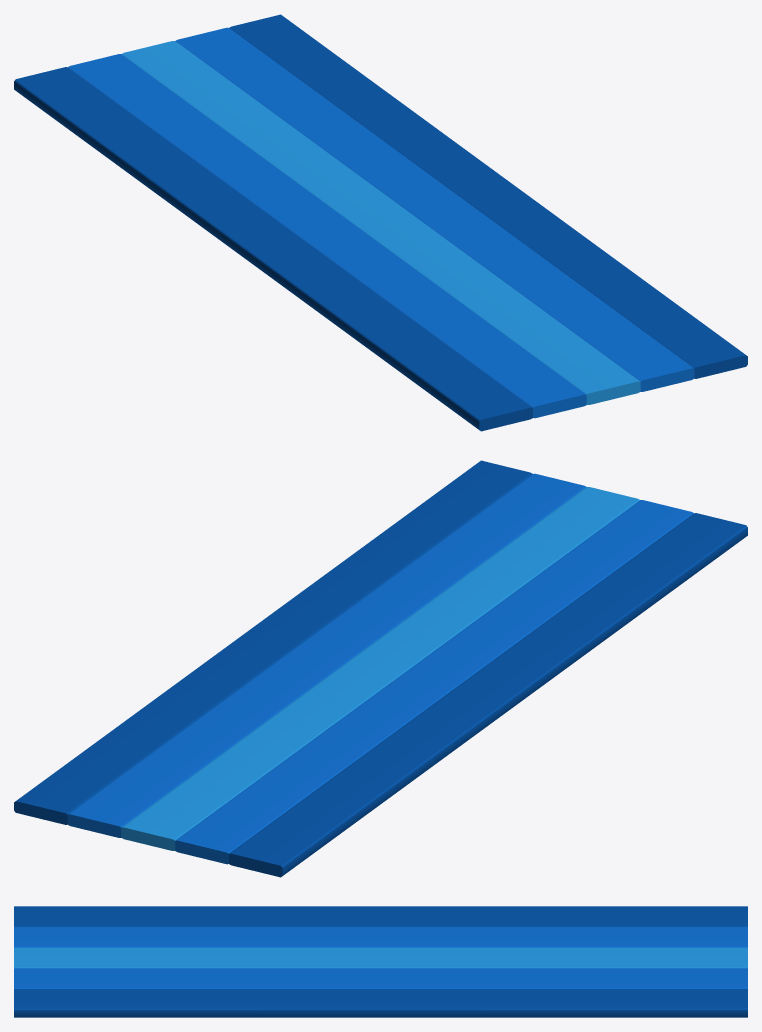
Rendered from platform_candy_005.glb.
3 views of the same model, one above another, from view 1: azimuth 30°, elevation 25°; view 2: azimuth 150°, elevation 25°; view 3: azimuth 270°, elevation 25° (orthographic). The views are drawn at different scales.
Visible parts, largest first — view 1: platform_candy_005; view 2: platform_candy_005; view 3: platform_candy_005.
Part boxes in pixels (x1,y1,x2,y2): platform_candy_005: (14, 14, 747, 431); platform_candy_005: (14, 460, 747, 877); platform_candy_005: (14, 906, 747, 1017).
Bounding box in the file's own units: 12 × 0.5 × 36.
Materials: 1 (1 with a texture image).
